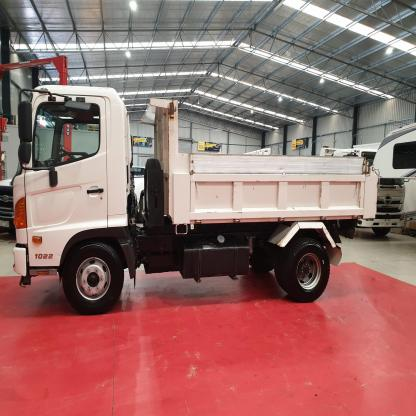dump_truck: (11, 77, 389, 322)
